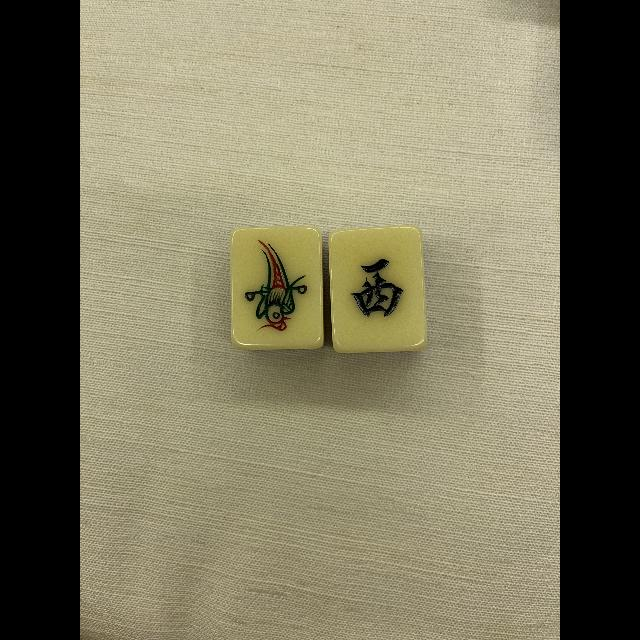b1: (234, 229, 320, 345)
ww: (332, 230, 422, 348)
